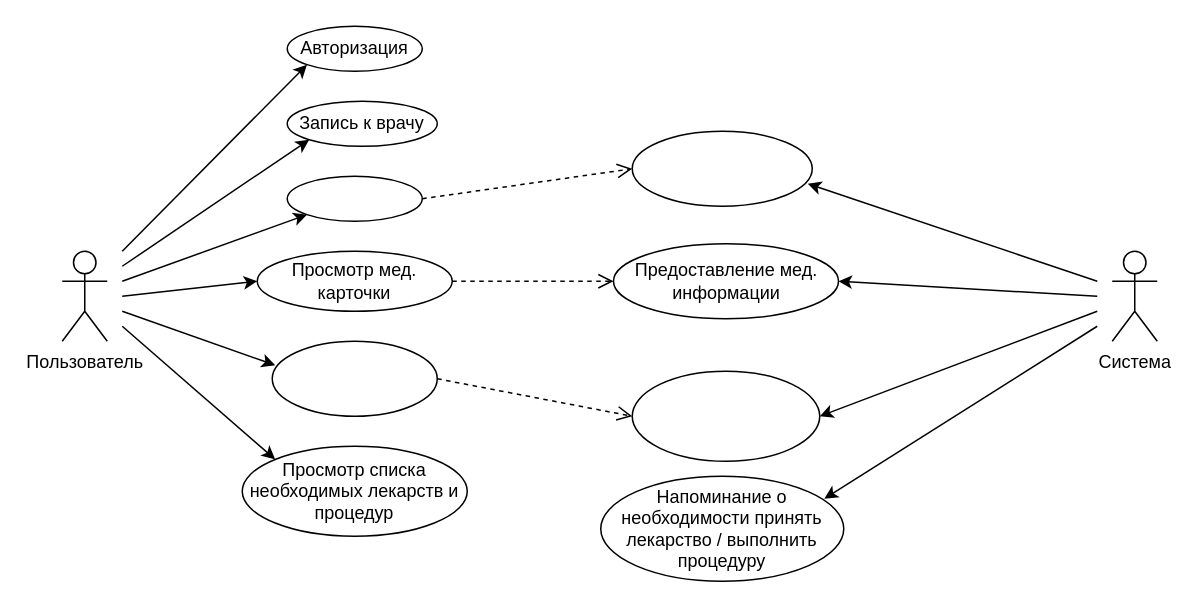
This 1196x608 diagram has some shape labels left out. Here are the shapes that lost their labels. From the top down, the box of each, then its label:
(631, 130, 812, 206): Предоставление перечня врачей
(286, 175, 422, 221): Поиск врача
(271, 340, 437, 416): Получение рекомендованной диеты
(631, 370, 820, 461): Предоставление рекомендованной диеты
